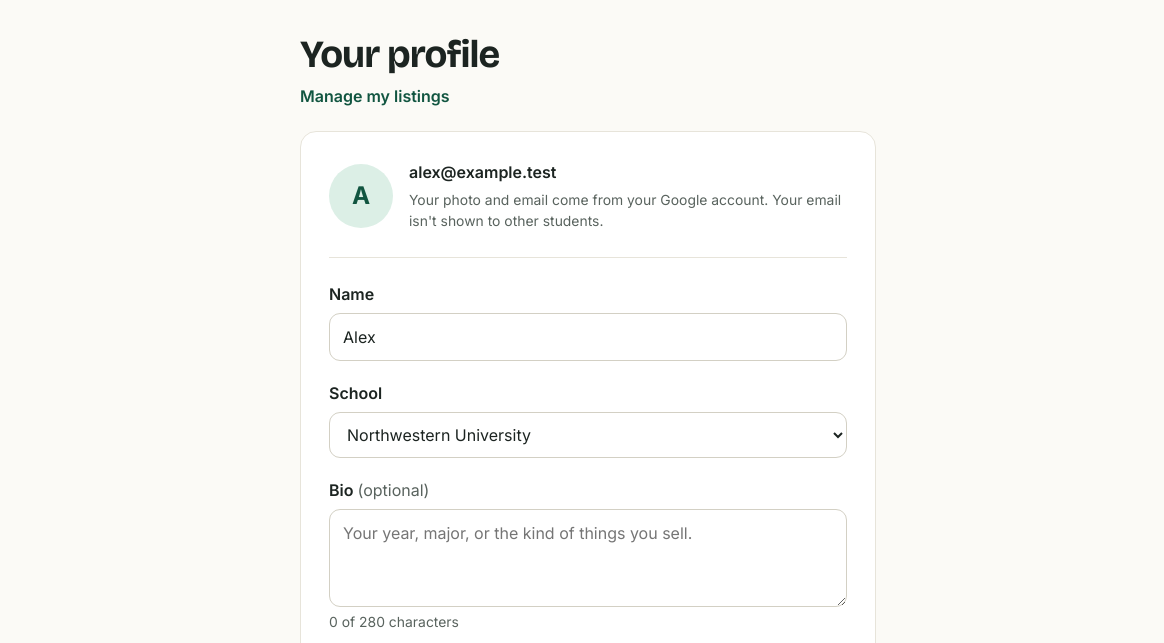
Test case: sign-in and profile › retains profile edits after a save fails and allows retry
In the text box labelled "Bio (optional)": (588, 558) [329,509,847,607], type "Selling books"
(page scrolled)
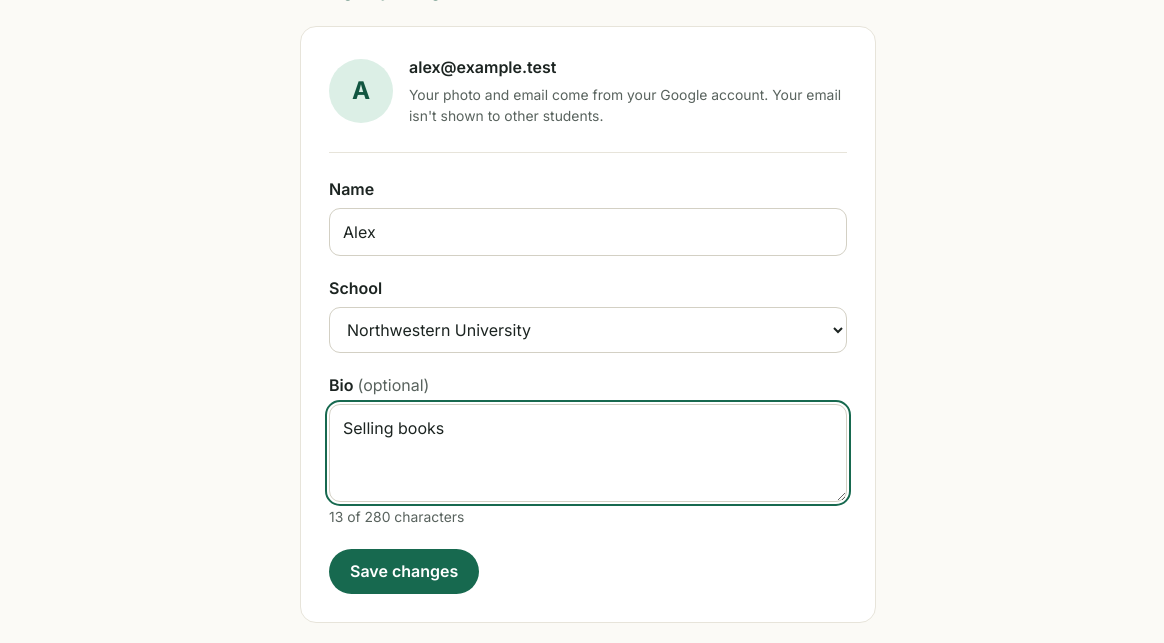
Click the button "Save changes": (404, 571) [329,549,479,594]
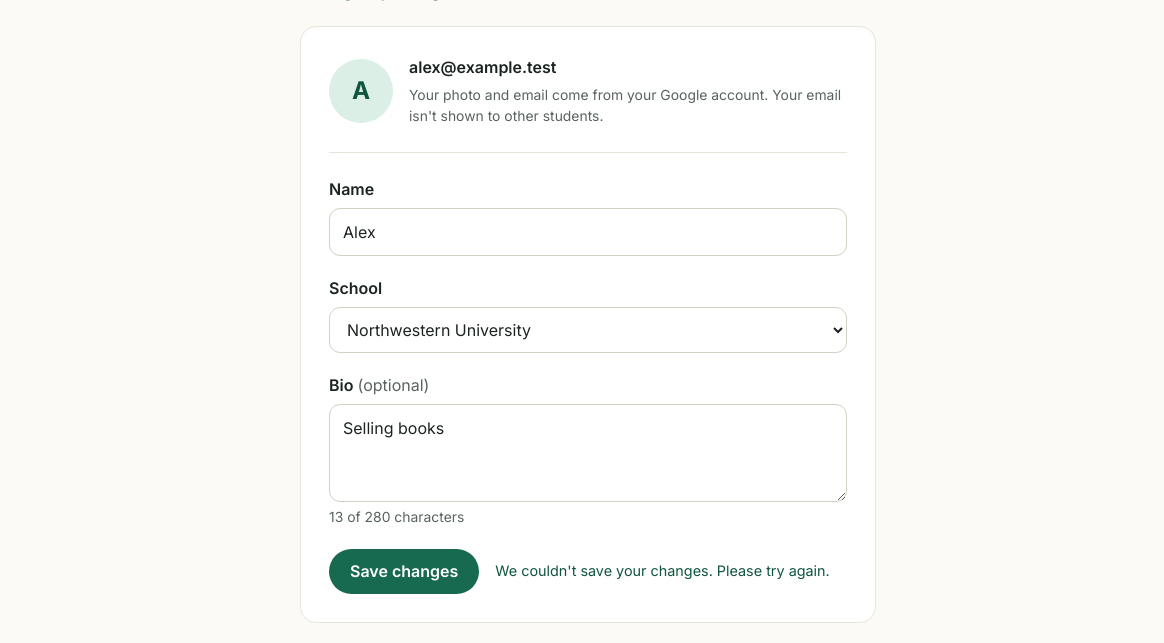
Check: the message shows "We couldn't save your changes", box [495,562,830,579]
Click the button "Save changes": (404, 571) [329,549,479,594]
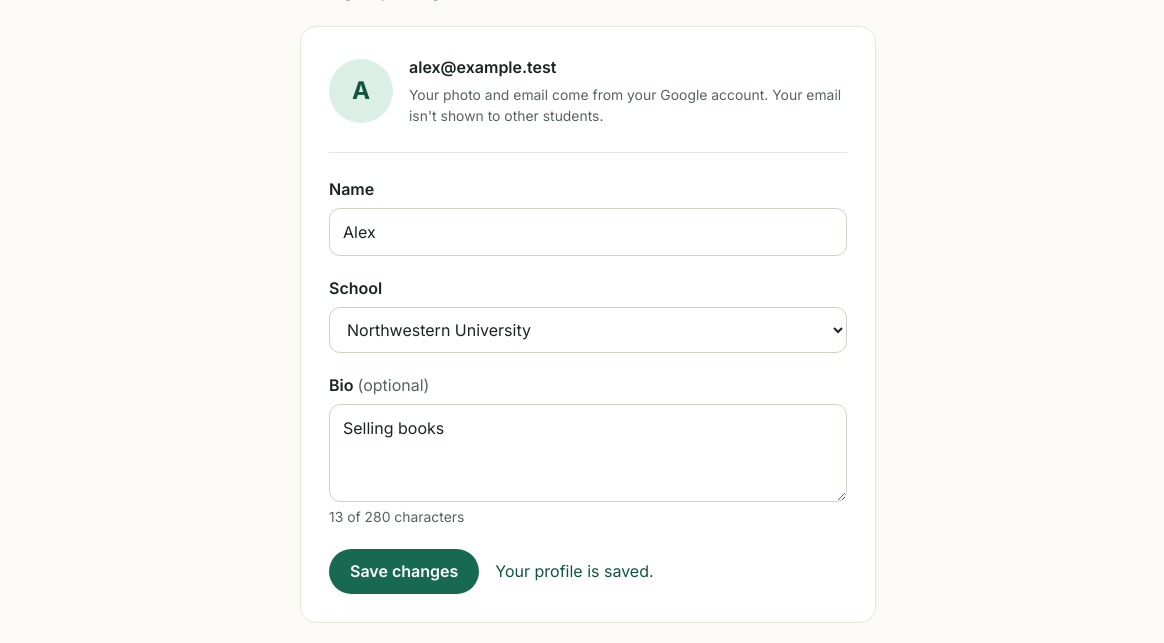
Check: the message reads "Your profile is saved.", box [495,561,654,581]
